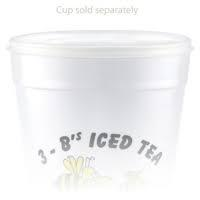Plastic cup: (6, 25, 200, 200)
